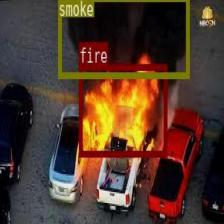fire: (78, 64, 166, 156)
smoke: (58, 0, 189, 77)
